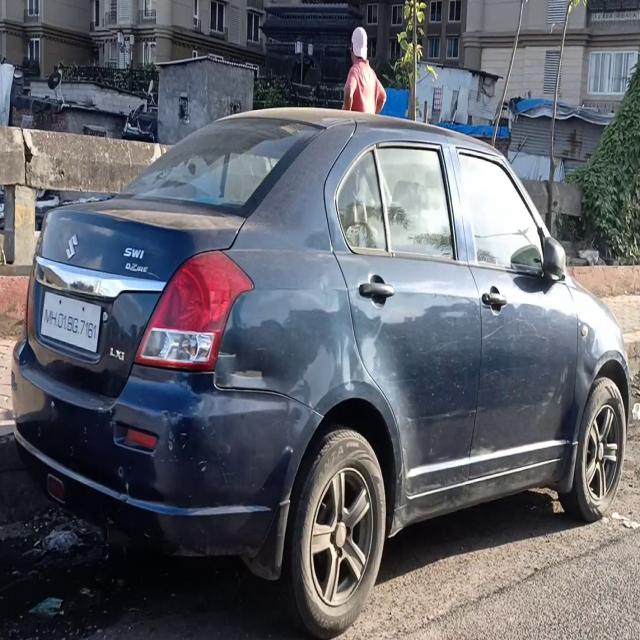license_plate: (32, 278, 114, 367)
